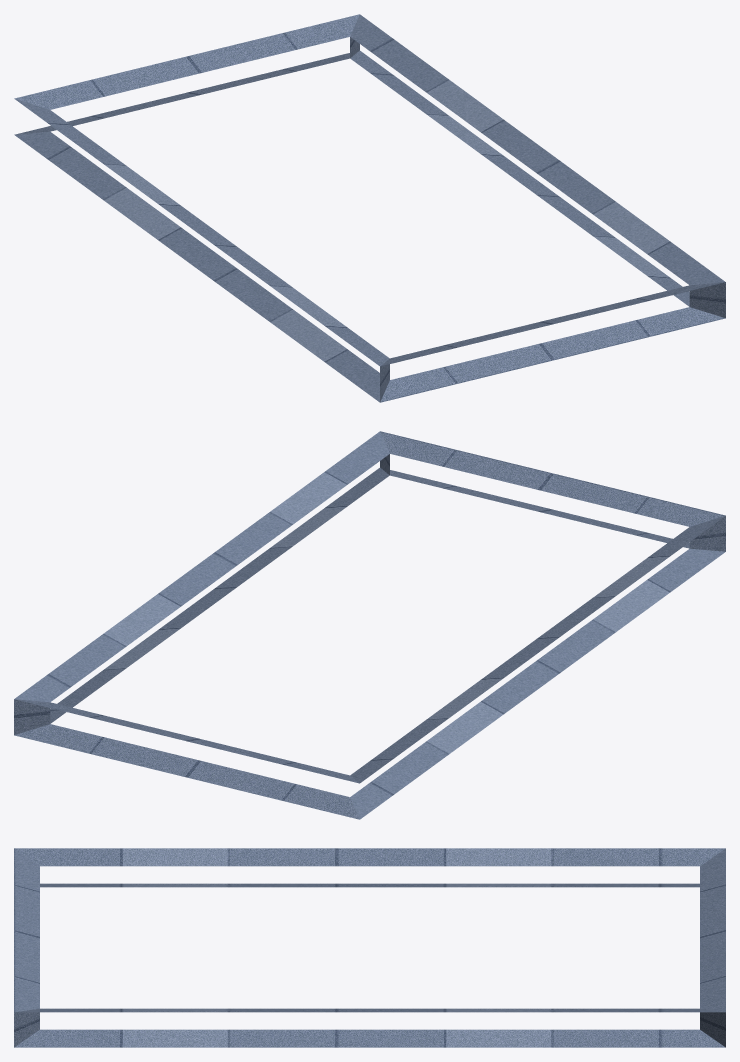
The picture shows the model from 3 angles, top to bottom: view 1: azimuth 30°, elevation 25°; view 2: azimuth 150°, elevation 25°; view 3: azimuth 270°, elevation 25°; orthographic projection. The views are drawn at different scales.
Parts seen in each view (by area): view 1: door_office_lod0_run001; view 2: door_office_lod0_run001; view 3: door_office_lod0_run001.
Part boxes in pixels (<box>): door_office_lod0_run001: <box>14,14,725,402</box>; door_office_lod0_run001: <box>14,431,725,819</box>; door_office_lod0_run001: <box>14,848,725,1047</box>.
Bounding box in the file's own units: 1.2 × 0.12 × 2.2.
Materials: 1 (1 with a texture image).
